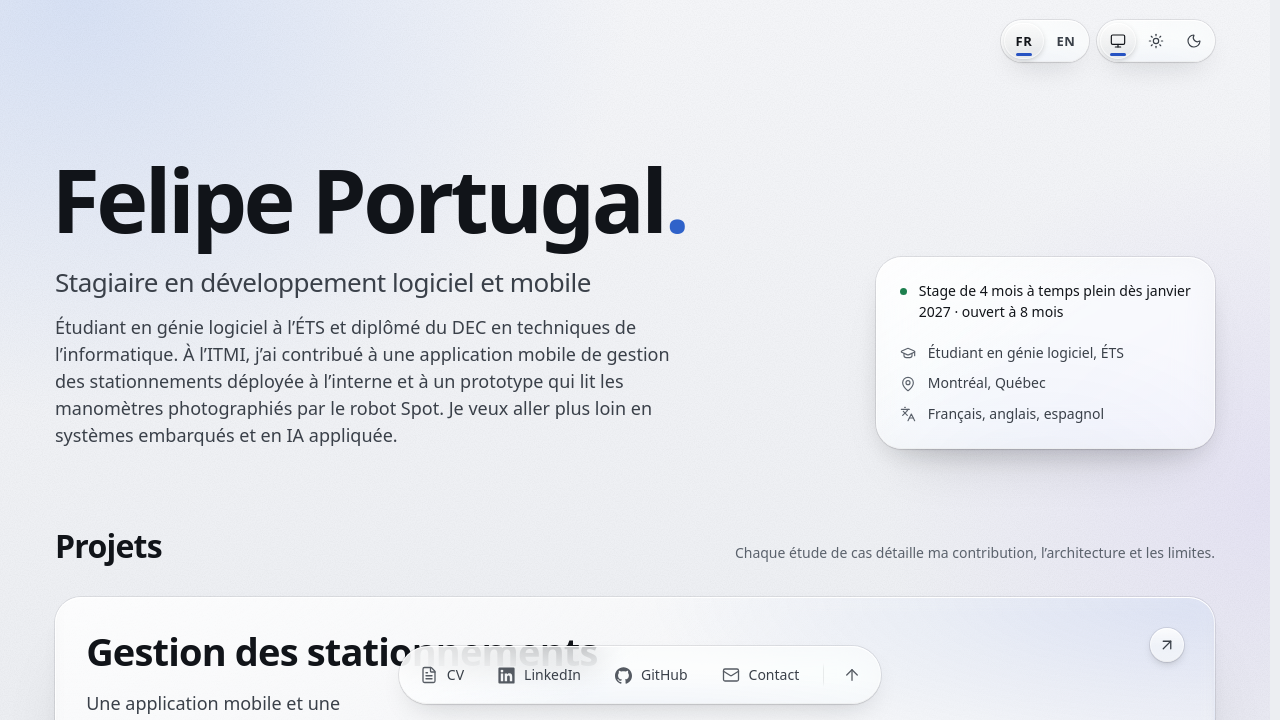
Test: page › bascule en anglais sans rechargement et mémorise le choix
The image size is (1280, 720).
Click the button with aria-label "EN — Passer en anglais" at (1066, 41), box [1046,23,1086,59]
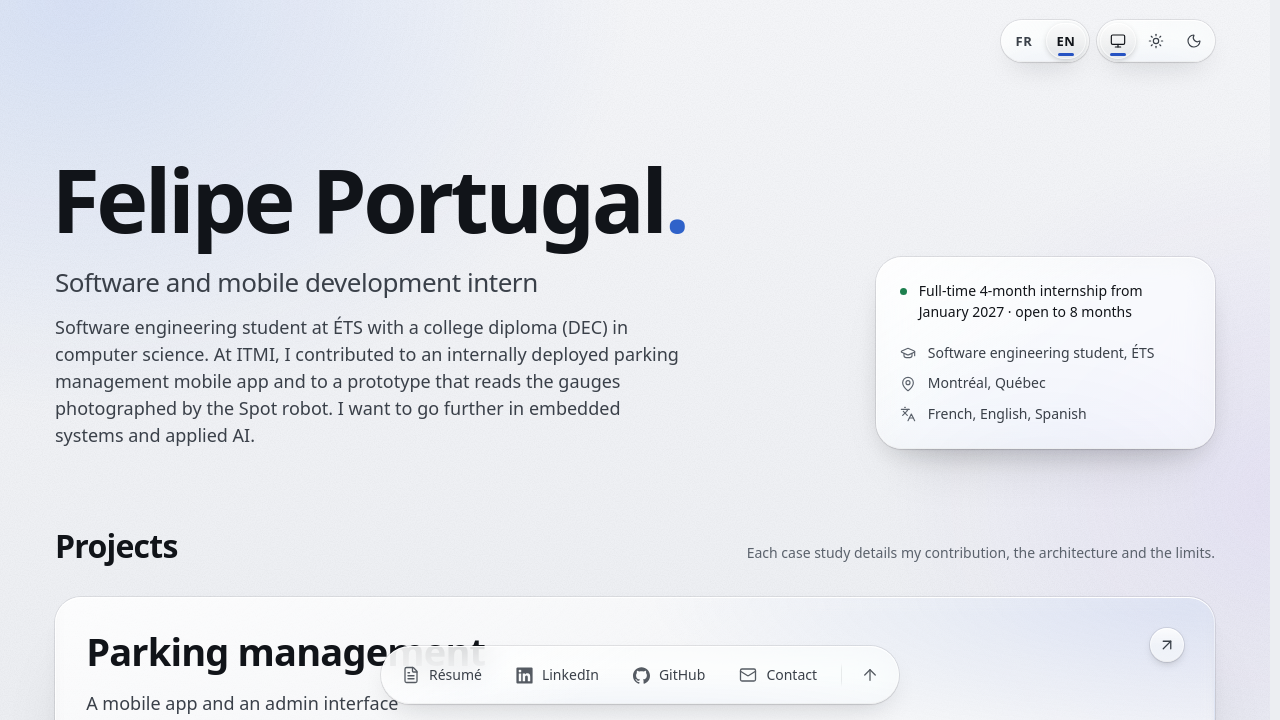
Result: the button with aria-label "FR — Switch to French" is shown at [1004,23,1044,59]
